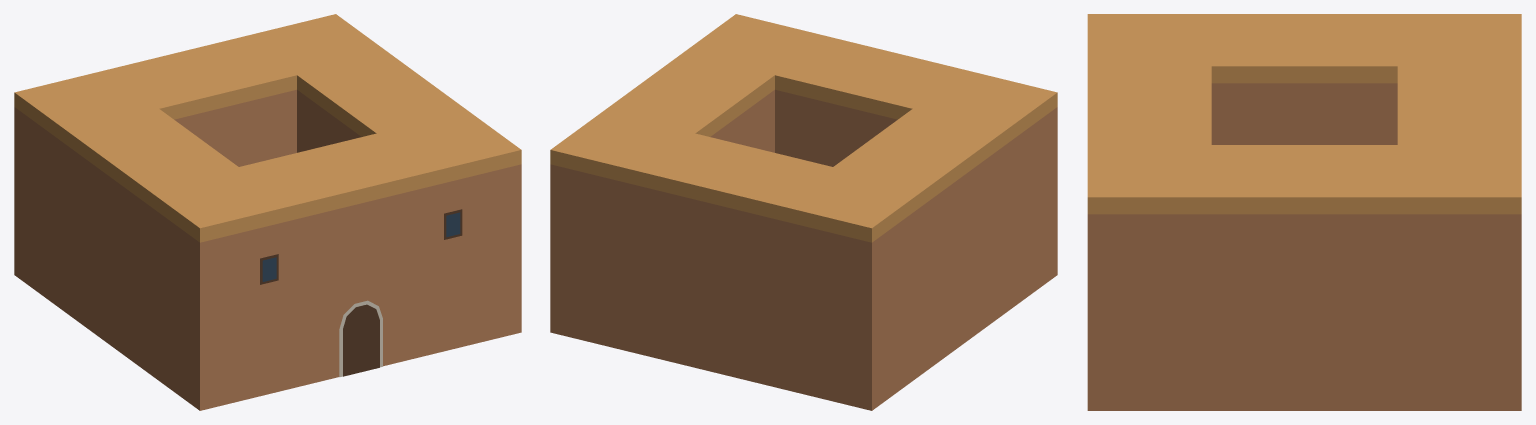
The model's file is riad.glb.
3 renders of one model, left to right at view 1: azimuth 30°, elevation 25°; view 2: azimuth 150°, elevation 25°; view 3: azimuth 270°, elevation 25°, orthographic. The views are drawn at different scales.
Parts seen in each view (by area): view 1: riad; view 2: riad; view 3: riad.
Part boxes in pixels (x1,y1,x2,y2): riad: [14, 14, 521, 410]; riad: [550, 14, 1057, 410]; riad: [1087, 14, 1521, 410].
Size of the model in its own units: 14 by 7.6 by 14.05.
1 material, 1 textured.
